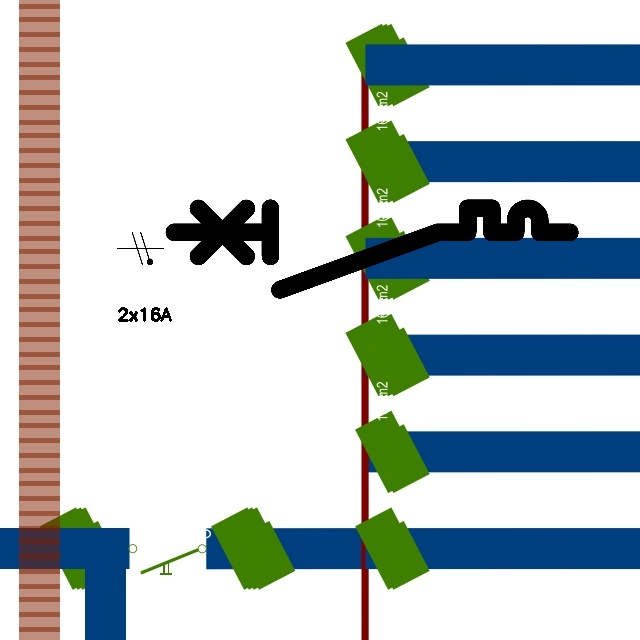interruptor_termomagnetico: (164, 198, 580, 300)
